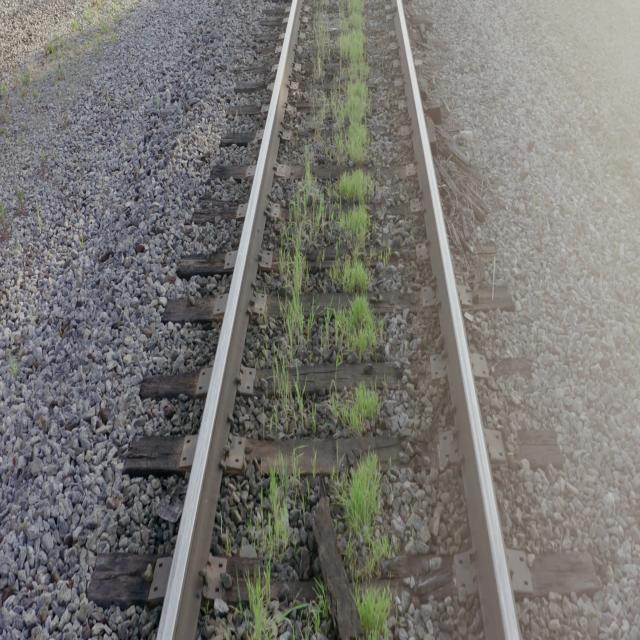Plant: (280, 0, 381, 360), (249, 464, 291, 640), (339, 456, 390, 576), (330, 384, 381, 436), (355, 587, 392, 640), (359, 587, 390, 638), (276, 364, 291, 427), (294, 389, 308, 427)
